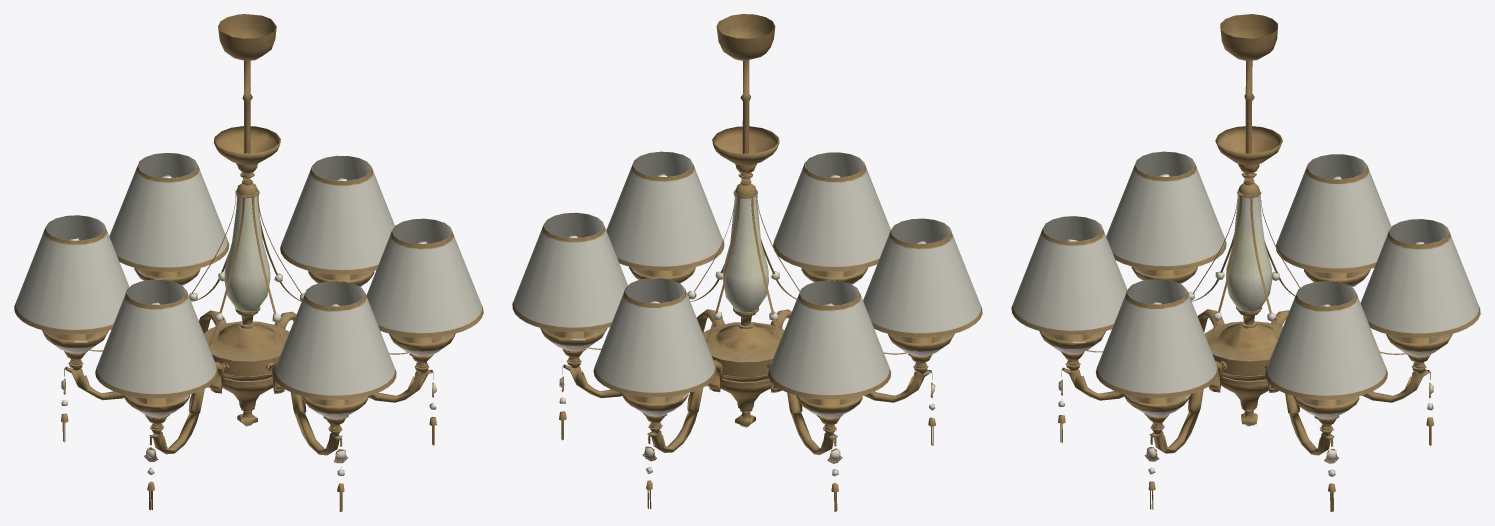
The model's file is Chandelier_01.glb.
3 views of the same model, side by side, from view 1: azimuth 30°, elevation 25°; view 2: azimuth 150°, elevation 25°; view 3: azimuth 270°, elevation 25° (orthographic).
Visible parts, largest first — view 1: Chandelier_01; view 2: Chandelier_01; view 3: Chandelier_01.
Part boxes in pixels (left/top/right/bottom): Chandelier_01: left=14, top=14, right=483, bottom=511; Chandelier_01: left=512, top=14, right=982, bottom=511; Chandelier_01: left=1011, top=14, right=1480, bottom=511.
Bounding box in the file's own units: 0.7465 × 0.7982 × 0.8155.
Materials: 2 (1 with a texture image).
